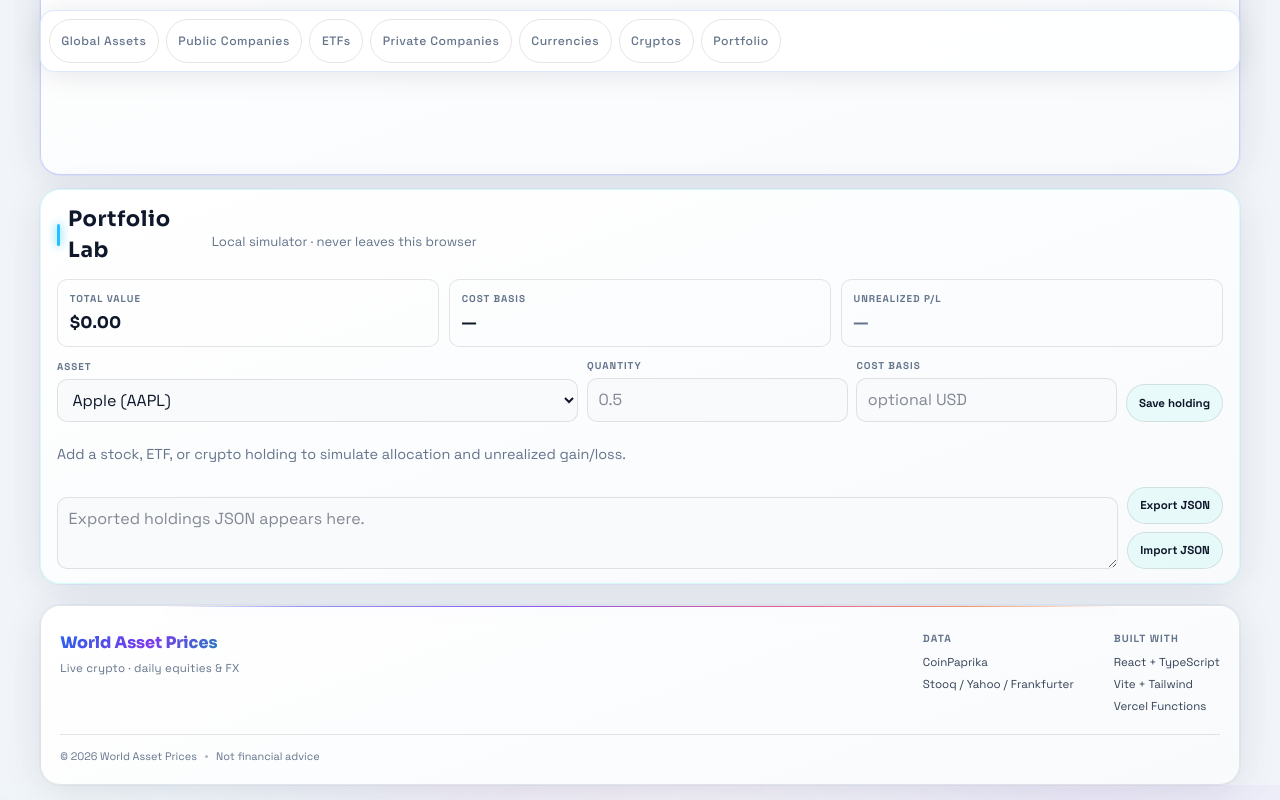
Test: App › adds a local portfolio holding without sending it to an API
The image size is (1280, 800).
(page scrolled)
Expected: the heading "Portfolio Lab" is shown, [68, 206, 171, 263]
Step 1. Type "2" into the field named "Holding quantity" → (717, 400), box [587, 378, 848, 422]
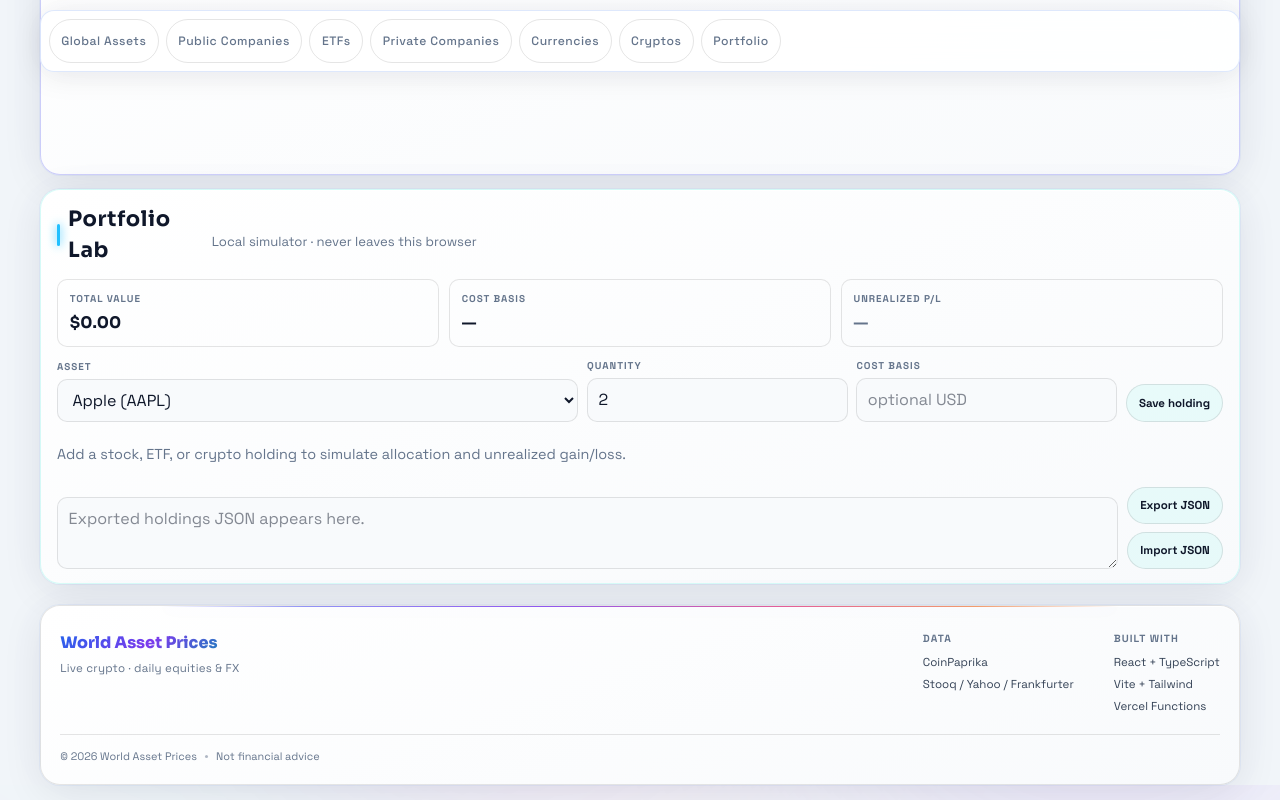
Step 2. Type "300" into the field named "Holding cost basis" → (987, 400), box [856, 378, 1117, 422]
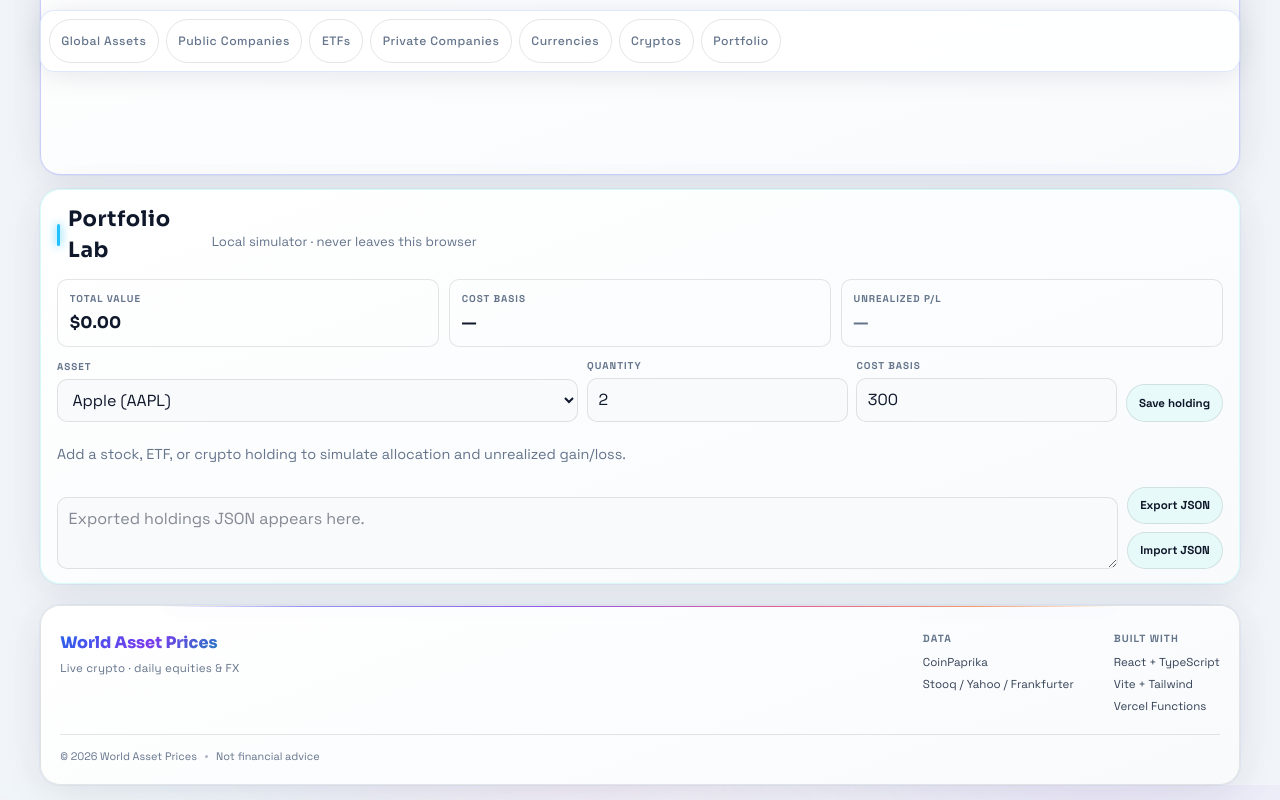
Step 3. Click the button "Save holding" → (1174, 403), box [1126, 384, 1223, 422]
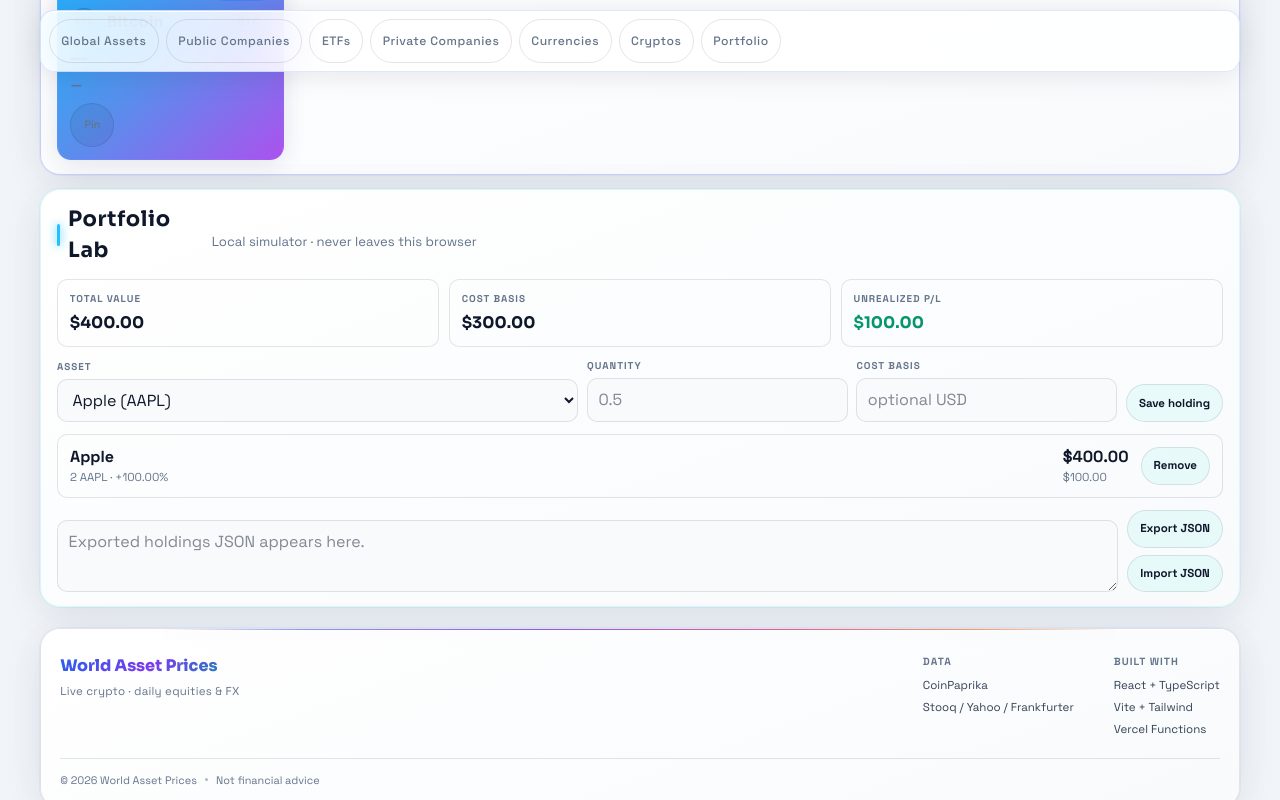
Result: the text "Apple" is shown at [70, 446, 114, 467]
